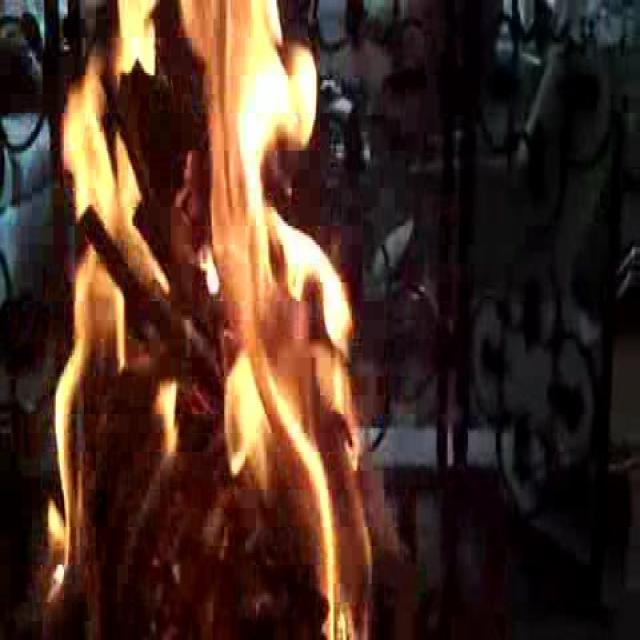Fire: (58, 18, 336, 588)
